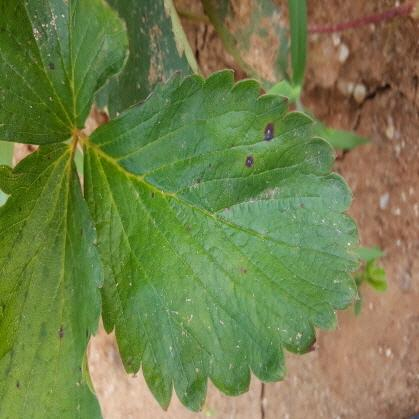Leaf Spot: (82, 69, 362, 412), (0, 143, 105, 418), (0, 0, 131, 145)
